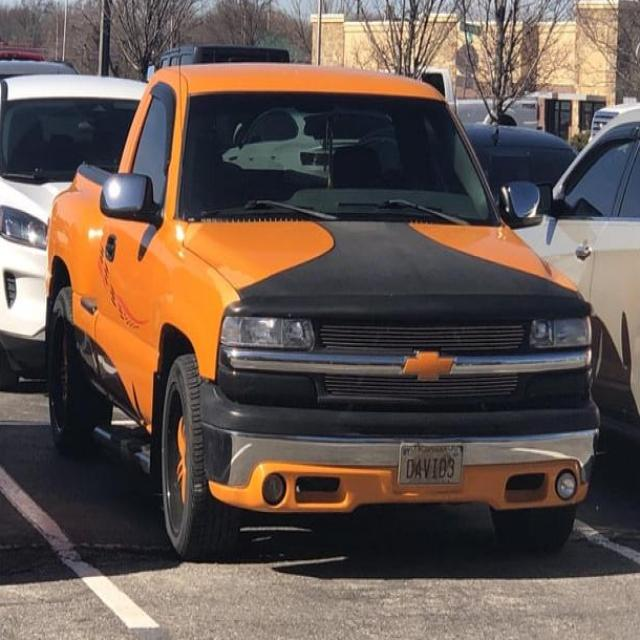LicensePlate: (397, 442, 466, 489)
